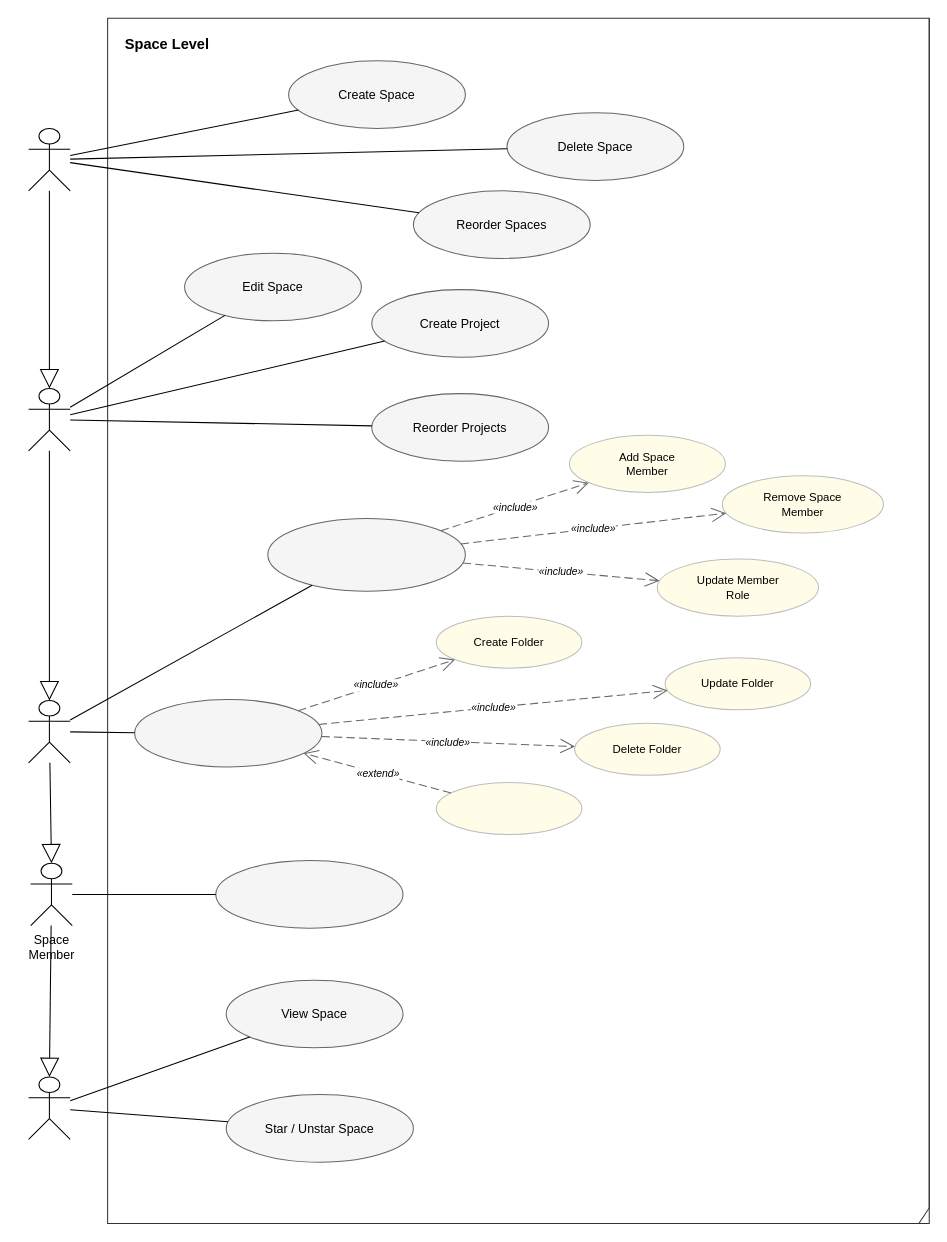
The diagram is 947 pixels wide and 1242 high, and some of its shapes have lost their labels. Each missing label, with the box of its shape:
Manage Folders: (134, 698, 322, 767)
Manage Space Members: (267, 517, 465, 591)
Move Folder: (435, 782, 582, 835)
Space Admin: (28, 699, 70, 763)
Space Guest: (28, 1076, 70, 1139)
View Project List: (215, 860, 403, 928)
Workspace Admin: (28, 387, 70, 451)
Workspace Owner: (28, 127, 70, 191)
